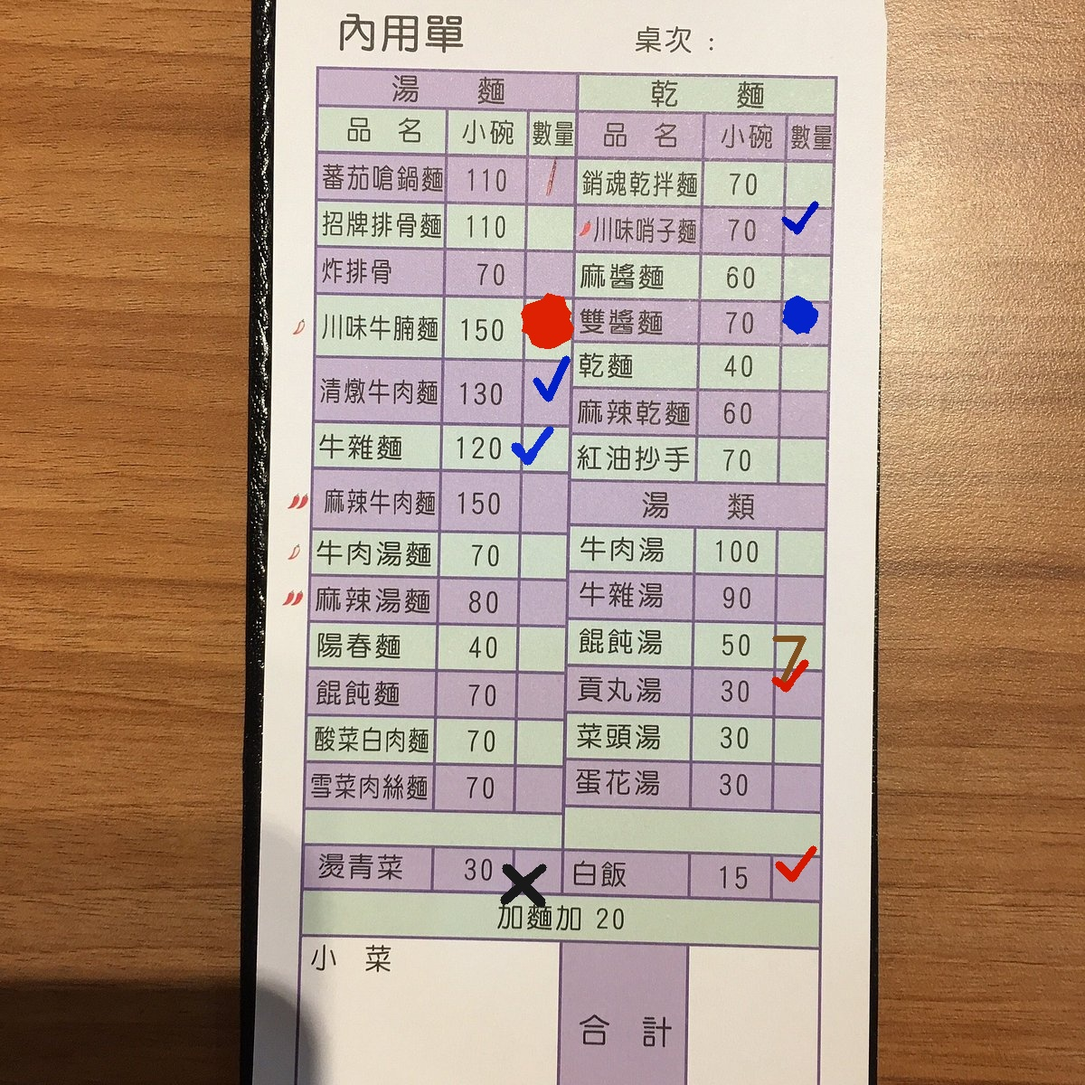marked_circle: (524, 297, 570, 359), (780, 298, 828, 344)
marked_number_7: (775, 623, 823, 669)
marked_tick: (521, 360, 567, 422), (772, 854, 820, 901), (520, 426, 568, 472), (772, 670, 820, 716), (782, 206, 830, 252)
marked_x: (514, 846, 561, 892)
